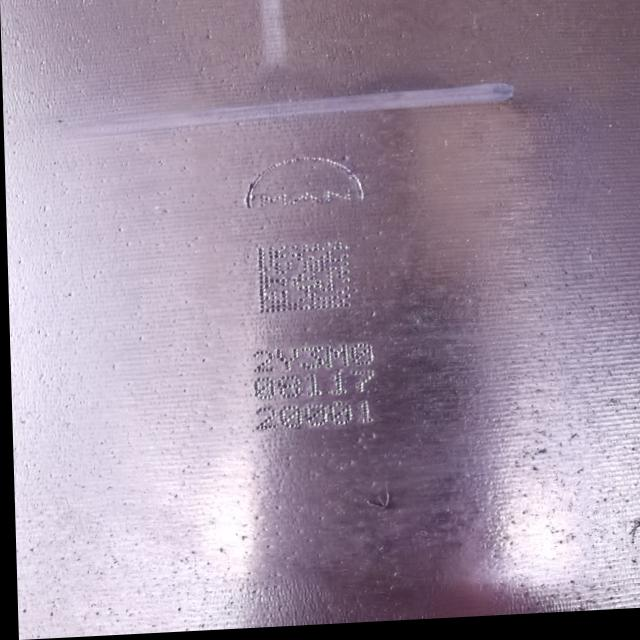dmc: (256, 244, 349, 317)
